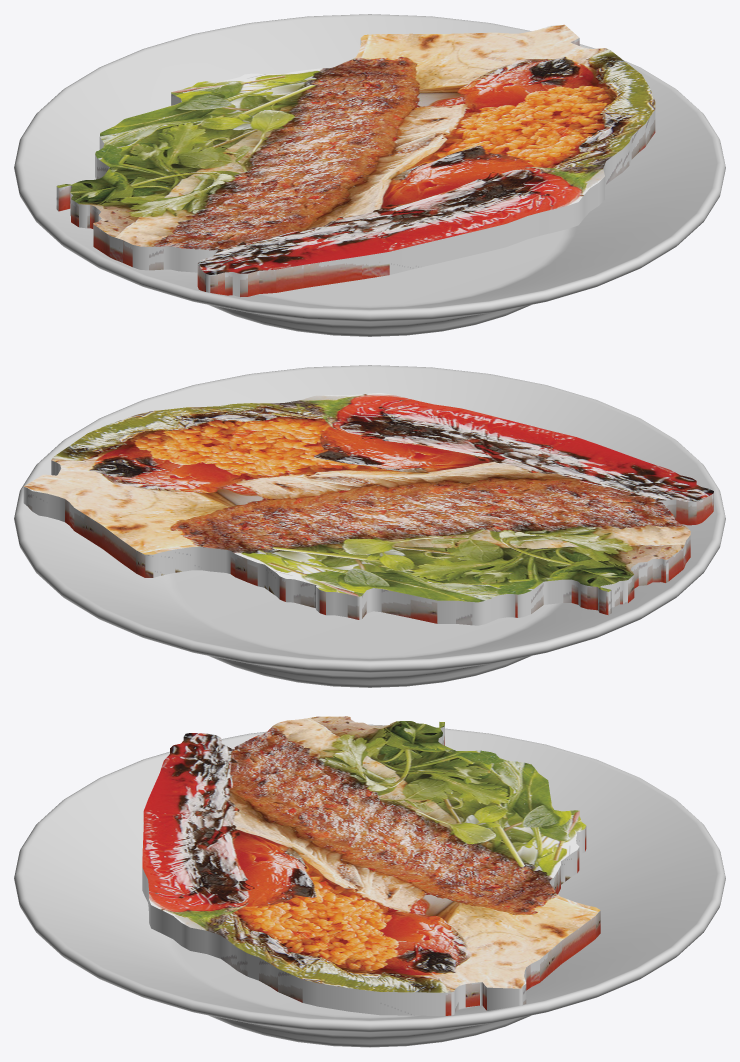
3 views of the same model, one above another, from view 1: azimuth 30°, elevation 25°; view 2: azimuth 150°, elevation 25°; view 3: azimuth 270°, elevation 25° (orthographic).
Parts seen in each view (by area): view 1: Mesh1 Component_1_1 main1 Model, Mesh2 main1 Model; view 2: Mesh1 Component_1_1 main1 Model, Mesh2 main1 Model; view 3: Mesh1 Component_1_1 main1 Model, Mesh2 main1 Model.
Boxes of the visible parts, <box> form: Mesh1 Component_1_1 main1 Model: <box>56,24,655,296</box>; Mesh2 main1 Model: <box>14,14,725,336</box>; Mesh1 Component_1_1 main1 Model: <box>23,393,713,625</box>; Mesh2 main1 Model: <box>14,365,725,687</box>; Mesh1 Component_1_1 main1 Model: <box>142,716,600,1015</box>; Mesh2 main1 Model: <box>14,724,725,1047</box>.
Bounding box in the file's own units: 0.15 × 0.0238 × 0.15.
4 materials, 3 textured.
